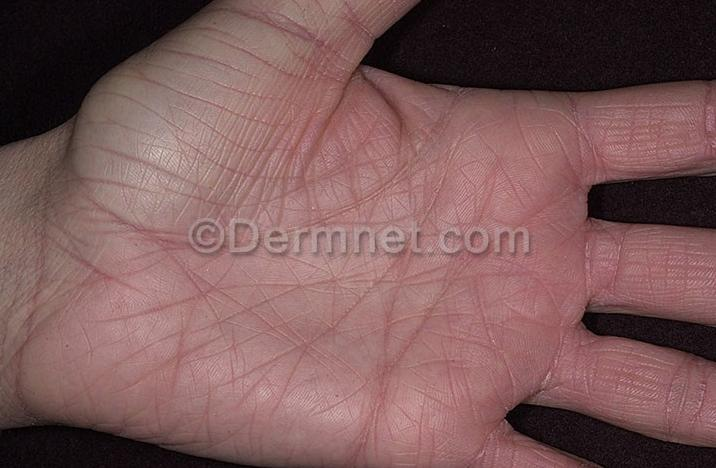eritema 1: (184, 65, 716, 468)
liquenificacion 1: (67, 50, 714, 468)
xerosis 1: (0, 126, 74, 286)
